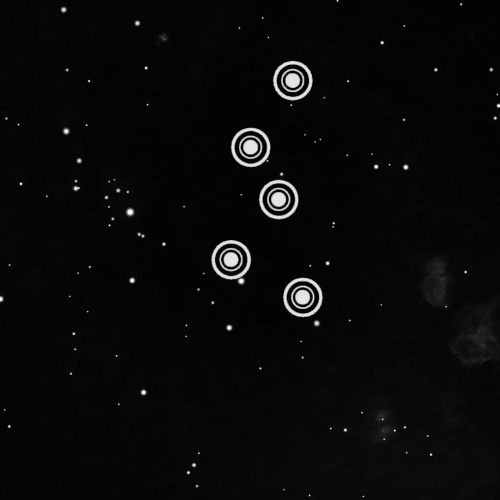cassiopeia: (204, 49, 336, 329)
